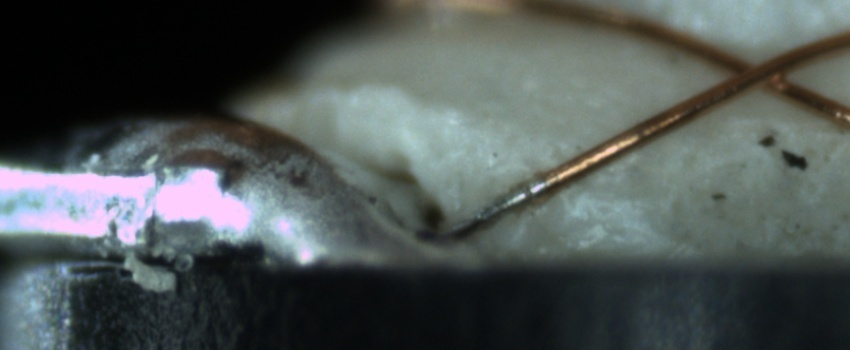CL: (711, 40, 808, 101)
TS: (433, 176, 550, 242)
TTCW: (440, 153, 595, 239)
